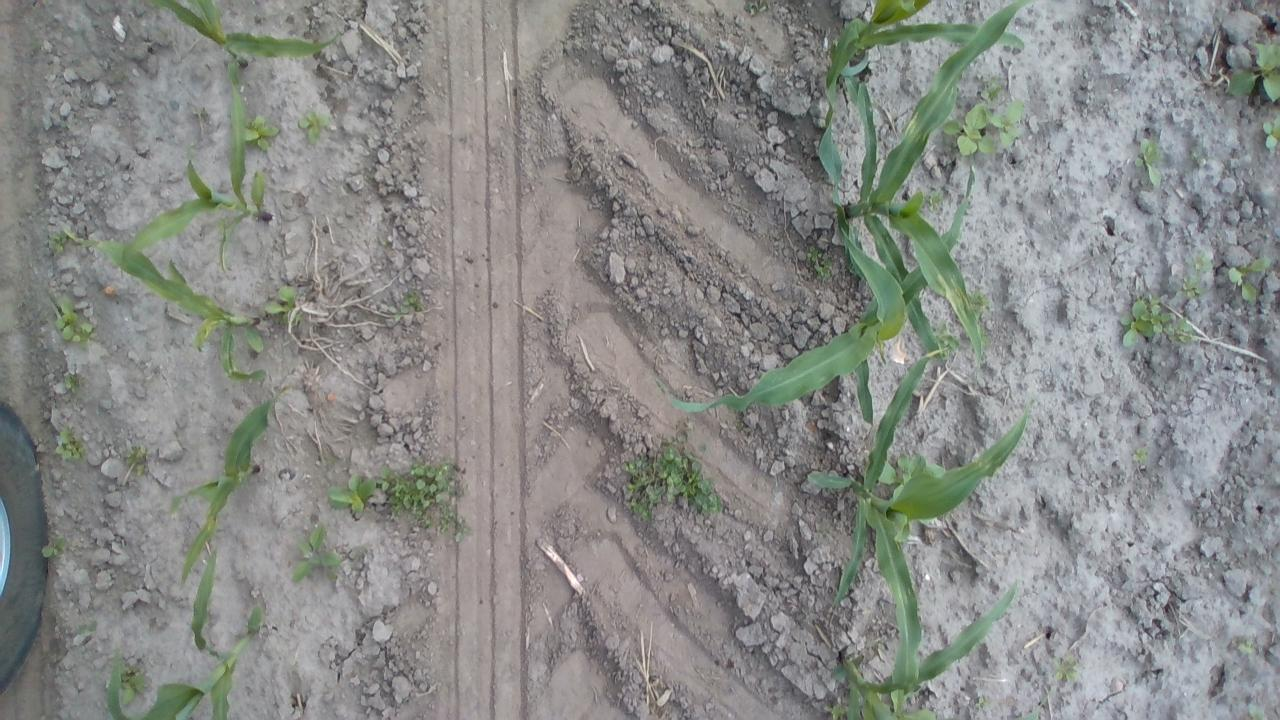Maize: (656, 2, 1026, 418), (804, 348, 1034, 683), (156, 2, 357, 202), (71, 236, 272, 388), (118, 103, 288, 276), (824, 578, 1022, 716), (101, 551, 262, 717), (146, 400, 278, 582)
Weeds: (333, 459, 472, 540), (619, 444, 724, 532), (1120, 290, 1194, 360), (945, 105, 1024, 168), (1225, 40, 1280, 106), (294, 524, 339, 587), (1227, 246, 1266, 312), (1128, 134, 1168, 198), (50, 299, 97, 350), (268, 284, 305, 330), (106, 664, 150, 700), (807, 244, 843, 285), (388, 291, 434, 321), (41, 231, 71, 272), (126, 441, 156, 481), (244, 116, 276, 152), (1230, 637, 1262, 669), (56, 426, 82, 463), (298, 112, 334, 138), (1051, 652, 1075, 686), (1261, 114, 1280, 151), (44, 542, 72, 565), (925, 184, 944, 216), (1134, 441, 1148, 471), (59, 380, 86, 395)
